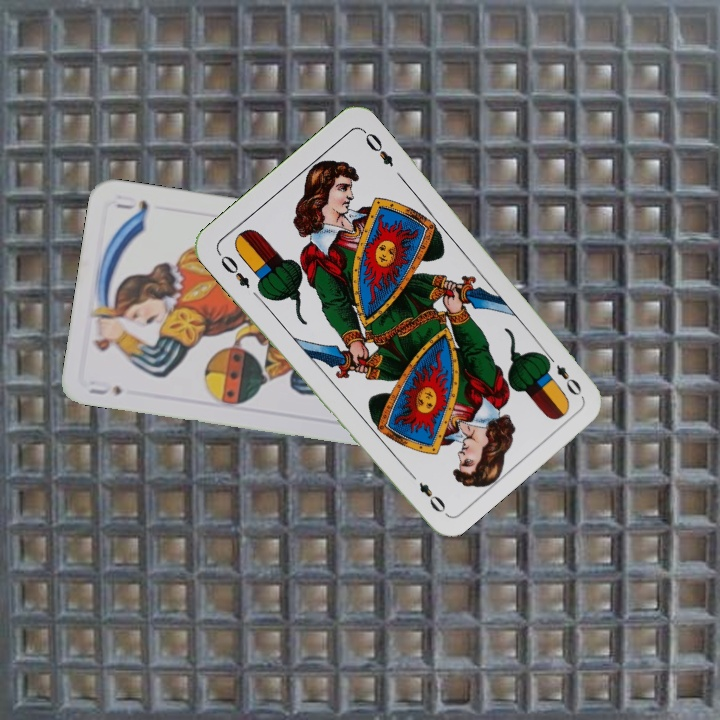EO: (541, 349, 584, 399), (216, 251, 253, 291)
SU: (84, 381, 125, 399)
